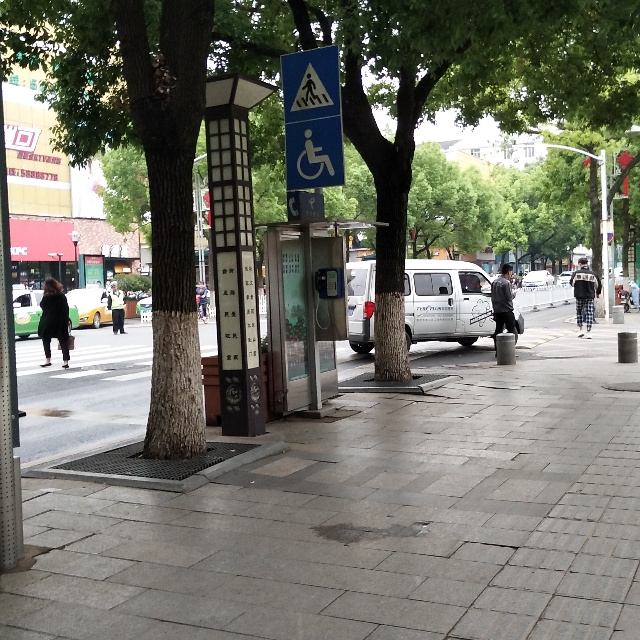crosswalk: (286, 52, 336, 112)
